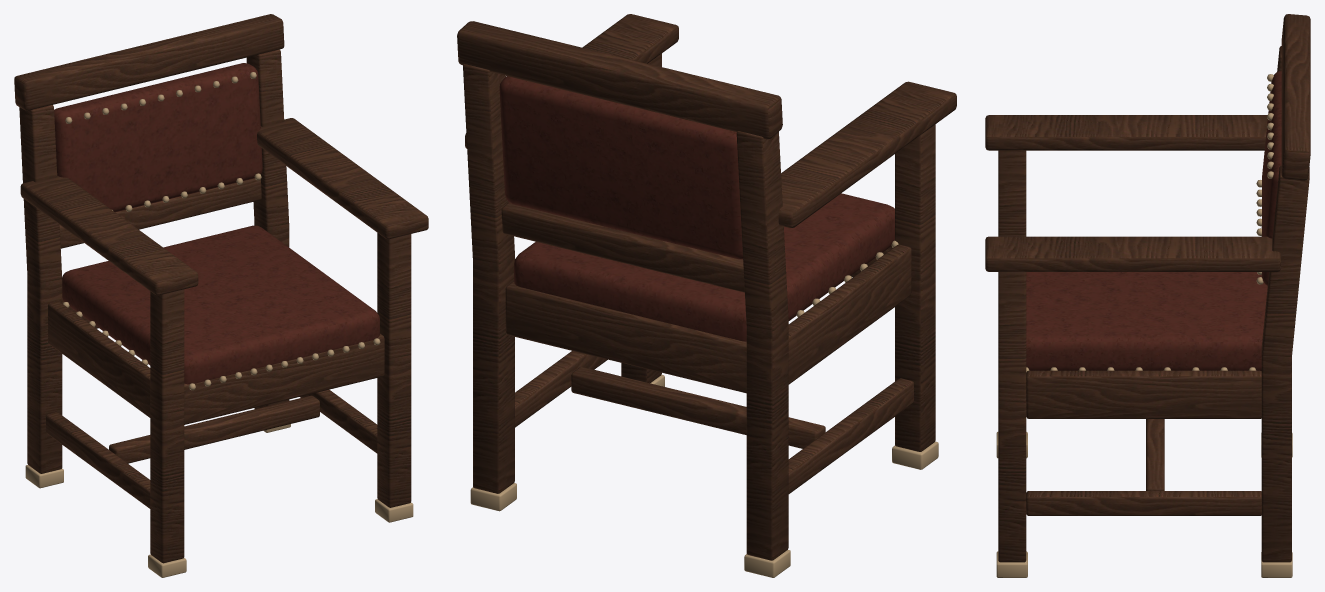
The model's file is bureau_armchair.glb.
3 renders of one model, left to right at view 1: azimuth 30°, elevation 25°; view 2: azimuth 150°, elevation 25°; view 3: azimuth 270°, elevation 25°, orthographic. The views are drawn at different scales.
Parts seen in each view (by area): view 1: bc_wood, bc_leather, bc_brass; view 2: bc_wood, bc_leather, bc_brass; view 3: bc_wood, bc_leather, bc_brass.
Part boxes in pixels (x1,y1,x2,y2): bc_wood: (14,14,428,563); bc_leather: (54,63,379,384); bc_brass: (25,72,413,577); bc_wood: (457,14,956,560); bc_leather: (499,76,894,341); bc_brass: (470,240,938,577); bc_wood: (985,14,1310,562); bc_leather: (1026,71,1281,370); bc_brass: (996,74,1292,577).
Bounding box in the file's own units: 0.632 × 0.8814 × 0.6029.
3 materials, 2 textured.
